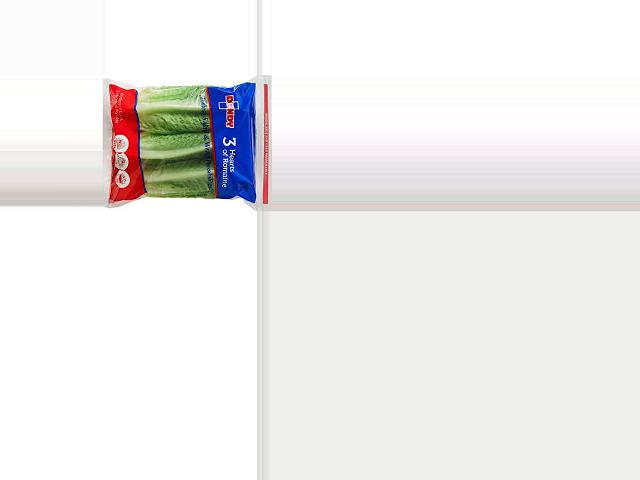lettuce: (101, 81, 259, 204)
